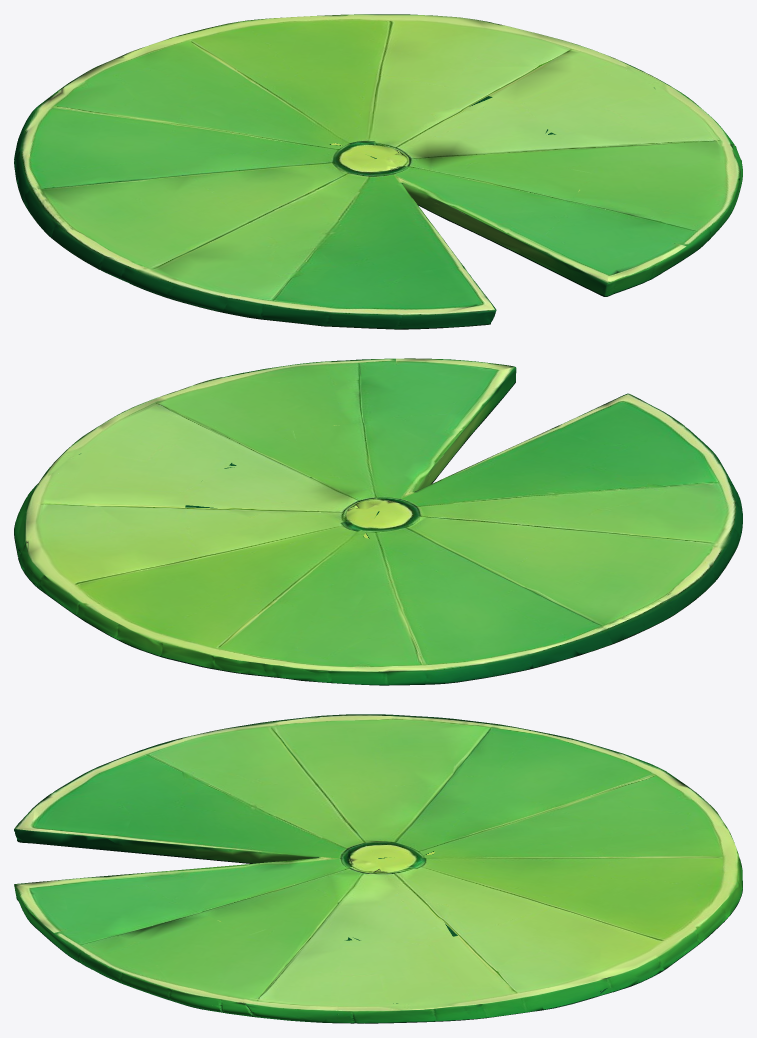
The model's file is sen_1.glb.
The picture shows the model from 3 angles, top to bottom: view 1: azimuth 30°, elevation 25°; view 2: azimuth 150°, elevation 25°; view 3: azimuth 270°, elevation 25°; orthographic projection.
Parts seen in each view (by area): view 1: leaf; view 2: leaf; view 3: leaf.
Boxes of the visible parts, <box> form: leaf: <box>14,14,742,329</box>; leaf: <box>14,358,742,685</box>; leaf: <box>14,714,742,1023</box>.
Size of the model in its own units: 1.96 by 0.0596 by 2.03.
1 material, 1 textured.
